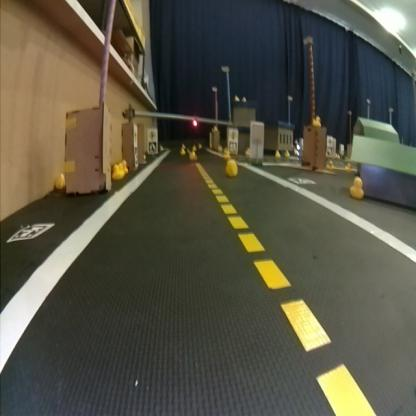Duckie: (352, 177, 364, 197), (227, 162, 238, 176), (113, 166, 122, 180), (57, 174, 65, 188), (123, 160, 128, 174), (316, 115, 322, 124), (275, 149, 281, 157), (346, 164, 352, 172), (328, 160, 334, 168), (192, 154, 198, 160), (286, 149, 290, 157)
QR code: (14, 221, 52, 242), (291, 176, 315, 184)
Traffic light: (194, 118, 198, 126)
